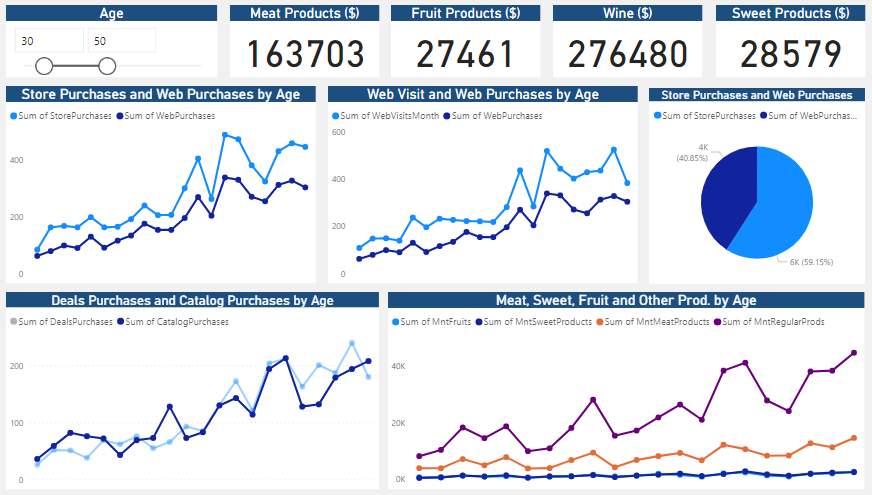

Layout of this report page (visuals, bound fields, positions):
{"tool":"powerbi","page":{"name":"Page 1","canvas":[1280,720],"ordinal":0},"visuals":[{"type":"card","title":"Fruit Products ($)","fields":{"Values":["Sum(ifood_df.MntFruits)"]},"box":[571.7,13,214.6,103.7],"z":0},{"type":"card","title":"Meat Products ($)","fields":{"Values":["Sum(ifood_df.MntMeatProducts)"]},"box":[339.8,13,214.6,103.7],"z":1000},{"type":"card","title":"Sweet Products ($)","fields":{"Values":["Sum(ifood_df.MntSweetProducts)"]},"box":[1039.7,13,214.6,103.7],"z":2000},{"type":"card","title":"Wine ($)","fields":{"Values":["Sum(ifood_df.MntWines)"]},"box":[805,13,214.6,103.7],"z":3000},{"type":"slicer","title":"Age","fields":{"Values":["ifood_df.Age"]},"box":[17.3,13,303.8,103.7],"z":4000},{"type":"lineChart","title":"Store Purchases and Web Purchases by Age","fields":{"Category":["ifood_df.Age"],"Y":["Sum(ifood_df.NumStorePurchases)","Sum(ifood_df.WebPurchases)"]},"box":[17.4,130.3,446,283.8],"z":5000},{"type":"lineChart","title":"Web Visit and Web Purchases by Age","fields":{"Category":["ifood_df.Age"],"Y":["Sum(ifood_df.WebVisitsMonth)","Sum(ifood_df.WebPurchases)"]},"box":[480.7,130.3,446,283.8],"z":6000},{"type":"pieChart","title":"Store Purchases and Web Purchases","fields":{"Y":["Sum(ifood_df.StorePurchases)","Sum(ifood_df.WebPurchases)"]},"box":[942.6,131.8,311.3,282.4],"z":7000},{"type":"lineChart","title":"Meat, Sweet, Fruit and Other Prod. by Age","fields":{"Category":["ifood_df.Age"],"Y":["Sum(ifood_df.MntFruits)","Sum(ifood_df.MntSweetProducts)","Sum(ifood_df.MntMeatProducts)","Sum(ifood_df.MntRegularProds)"]},"box":[567.6,425.7,686.3,283.8],"z":8000},{"type":"lineChart","title":"Deals Purchases and Catalog Purchases by Age","fields":{"Category":["ifood_df.Age"],"Y":["Sum(ifood_df.DealsPurchases)","Sum(ifood_df.CatalogPurchases)"]},"box":[17.4,425.7,537.2,283.8],"z":9000}]}

Visuals, with their boxes in screenshot pixels (x1, y1, x2, y2), scaled from the page's 1280x720 canvas onto the 872x495 screenshot:
"Fruit Products ($)" card: [389, 9, 536, 80]
"Meat Products ($)" card: [231, 9, 378, 80]
"Sweet Products ($)" card: [708, 9, 854, 80]
"Wine ($)" card: [548, 9, 695, 80]
"Age" slicer: [12, 9, 219, 80]
"Store Purchases and Web Purchases by Age" lineChart: [12, 90, 316, 285]
"Web Visit and Web Purchases by Age" lineChart: [327, 90, 631, 285]
"Store Purchases and Web Purchases" pieChart: [642, 91, 854, 285]
"Meat, Sweet, Fruit and Other Prod. by Age" lineChart: [387, 293, 854, 488]
"Deals Purchases and Catalog Purchases by Age" lineChart: [12, 293, 378, 488]
